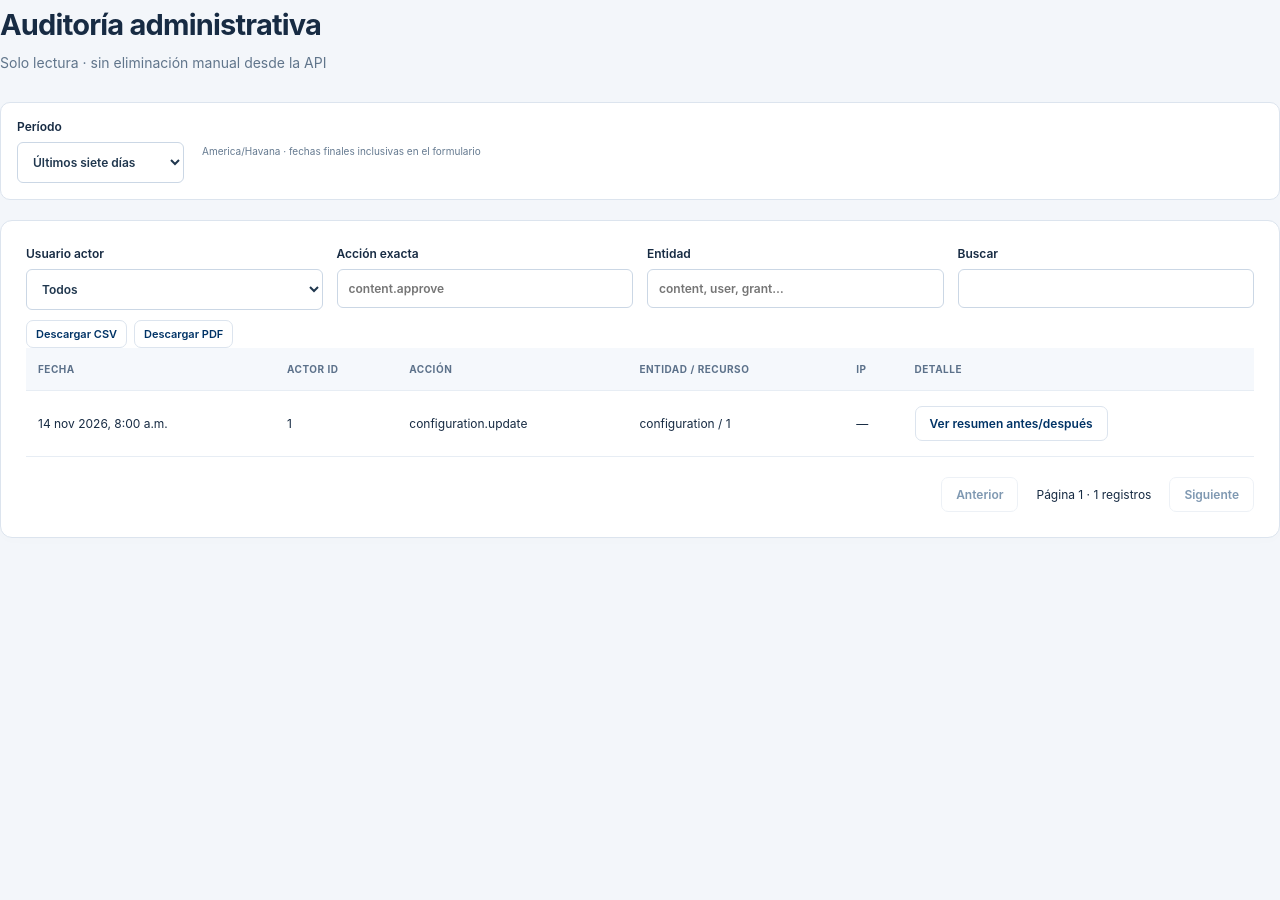
Test: la auditoría filtra por entidad y muestra el resumen antes y después
This screenshot has width=1280, height=900.
Check: the text "configuration.update" is shown, box [397,391,627,457]
Type "configuration" into the field labelled "Entidad" at [795, 289], box [647,269,944,308]
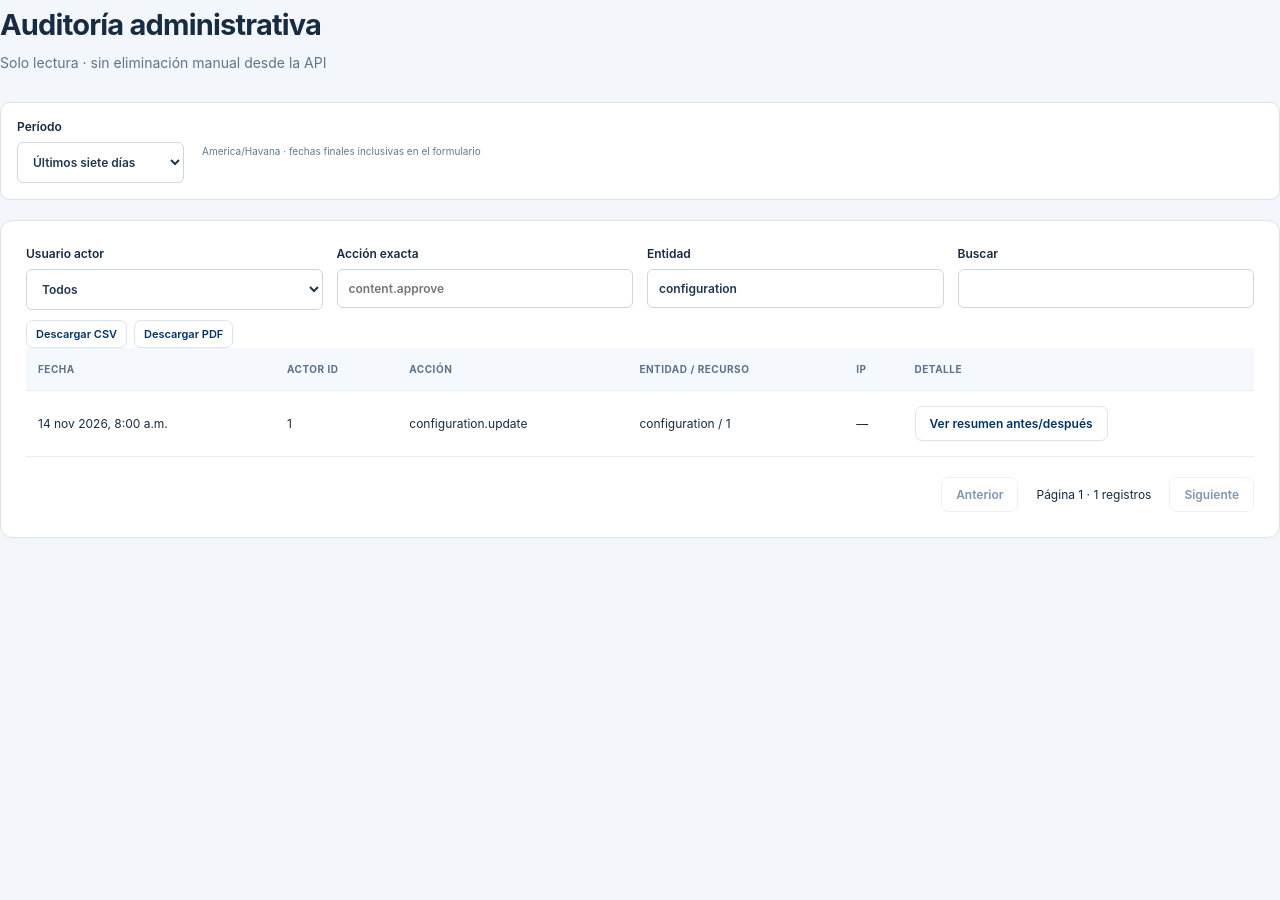
Click the button "Ver resumen antes/después" at [1011, 424], box [915,406,1108,441]
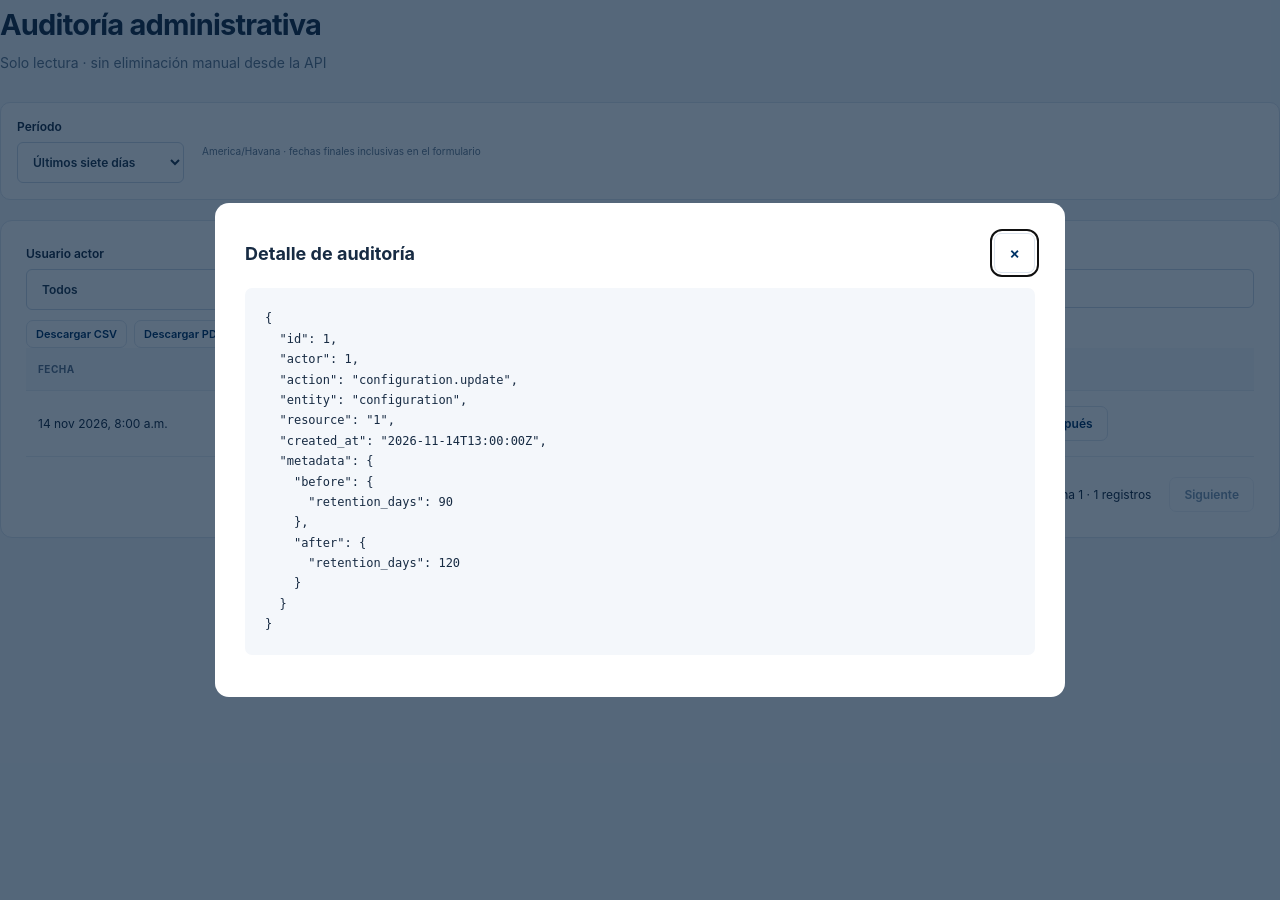
Check: the text "\"retention_days\": 120" is shown, box [265,311,547,631]
